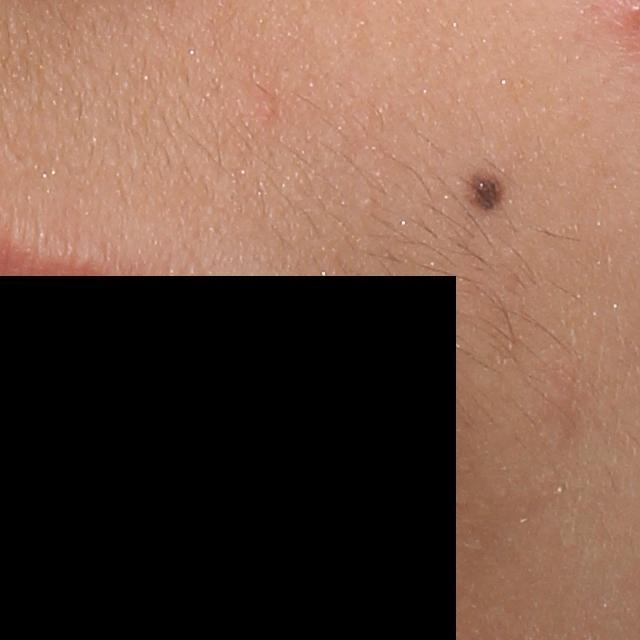nevus: (470, 170, 504, 213)
